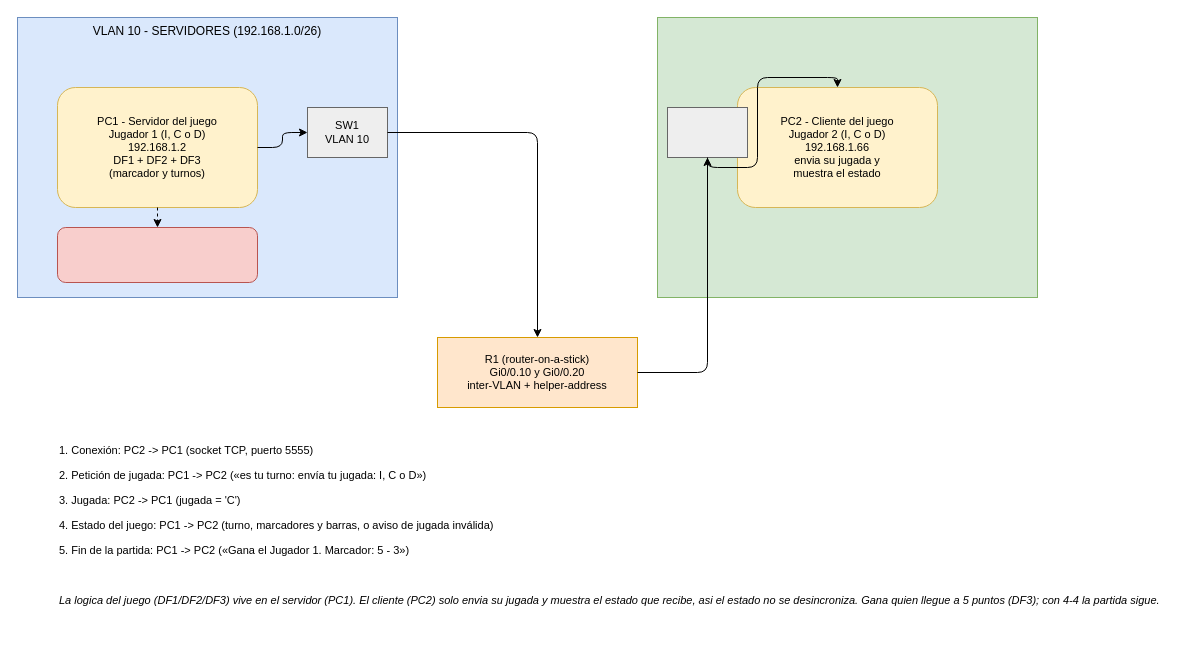
Some shapes in this 1178 by 645 pixel diagram are drawn without their labels. The shapes that lost their labels are listed below. From the top down, each one's box as (x1, y1, x2, y2) in pixels, then its label:
(666, 106, 748, 158): SW2 VLAN 20
(656, 16, 1038, 298): VLAN 20 - JUGADORES (192.168.1.64/26)
(56, 226, 258, 282): SRV1 - Servicios de red 192.168.1.3 DHCP, DNS, FTP, Web
